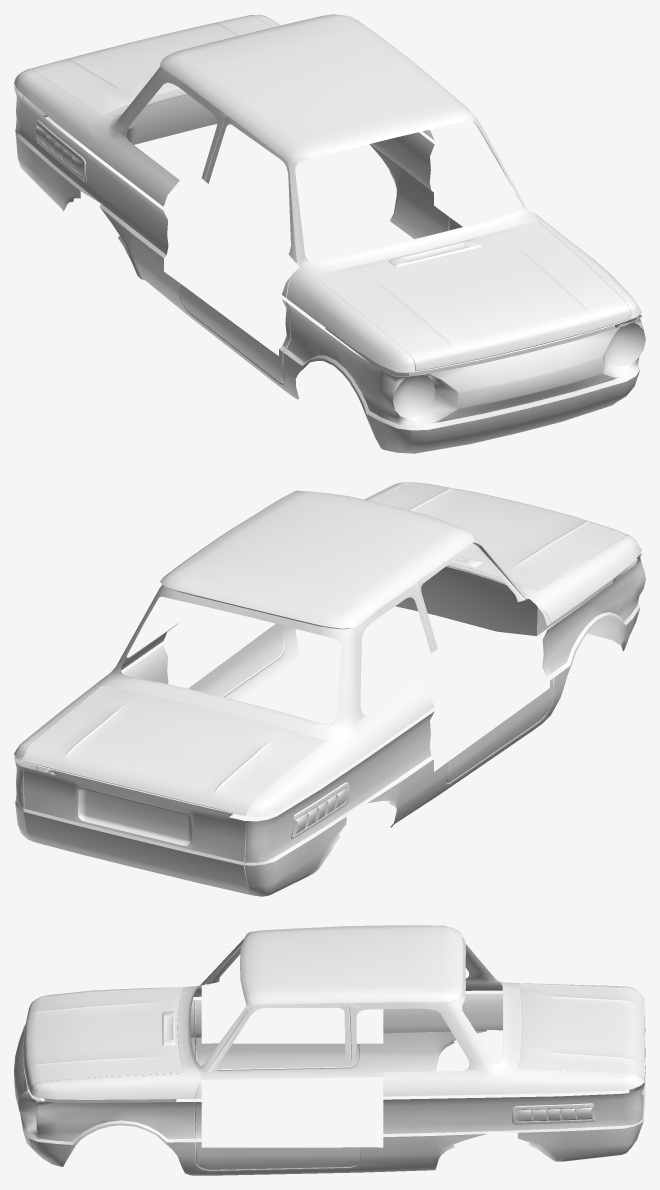
The picture shows the model from 3 angles, top to bottom: view 1: azimuth 30°, elevation 25°; view 2: azimuth 150°, elevation 25°; view 3: azimuth 270°, elevation 25°; orthographic projection. The views are drawn at different scales.
Bounding box in the file's own units: 1.43 × 1.1 × 3.65.
1 material, 1 textured.
